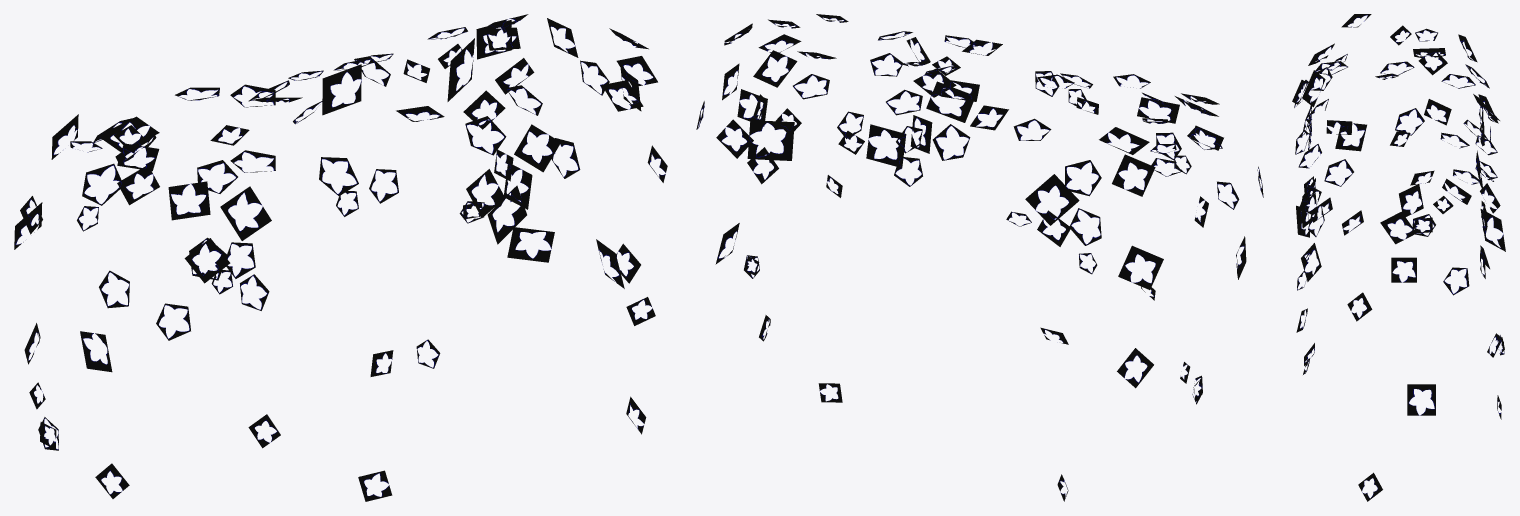
File: Homeworld_Exterior_Common_Flower_Decoration_Greenwall_01_B_Lod0.fbx
3 renders of one model, left to right at view 1: azimuth 30°, elevation 25°; view 2: azimuth 150°, elevation 25°; view 3: azimuth 270°, elevation 25°, orthographic. The views are drawn at different scales.
Visible parts, largest first — view 1: Homeworld_Exterior_Common_Flower_Decoration_Greenwall_01_B_L; view 2: Homeworld_Exterior_Common_Flower_Decoration_Greenwall_01_B_L; view 3: Homeworld_Exterior_Common_Flower_Decoration_Greenwall_01_B_L.
Part boxes in pixels (x1,y1,x2,y2): Homeworld_Exterior_Common_Flower_Decoration_Greenwall_01_B_L: [14, 14, 667, 501]; Homeworld_Exterior_Common_Flower_Decoration_Greenwall_01_B_L: [696, 14, 1263, 501]; Homeworld_Exterior_Common_Flower_Decoration_Greenwall_01_B_L: [1292, 14, 1505, 501].
Bounding box in the file's own units: 2.68 × 1.87 × 1.14.
